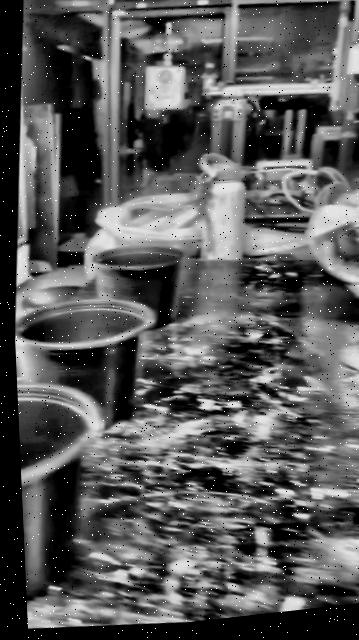pot: (17, 383, 103, 598), (14, 298, 153, 426), (92, 243, 182, 327)
